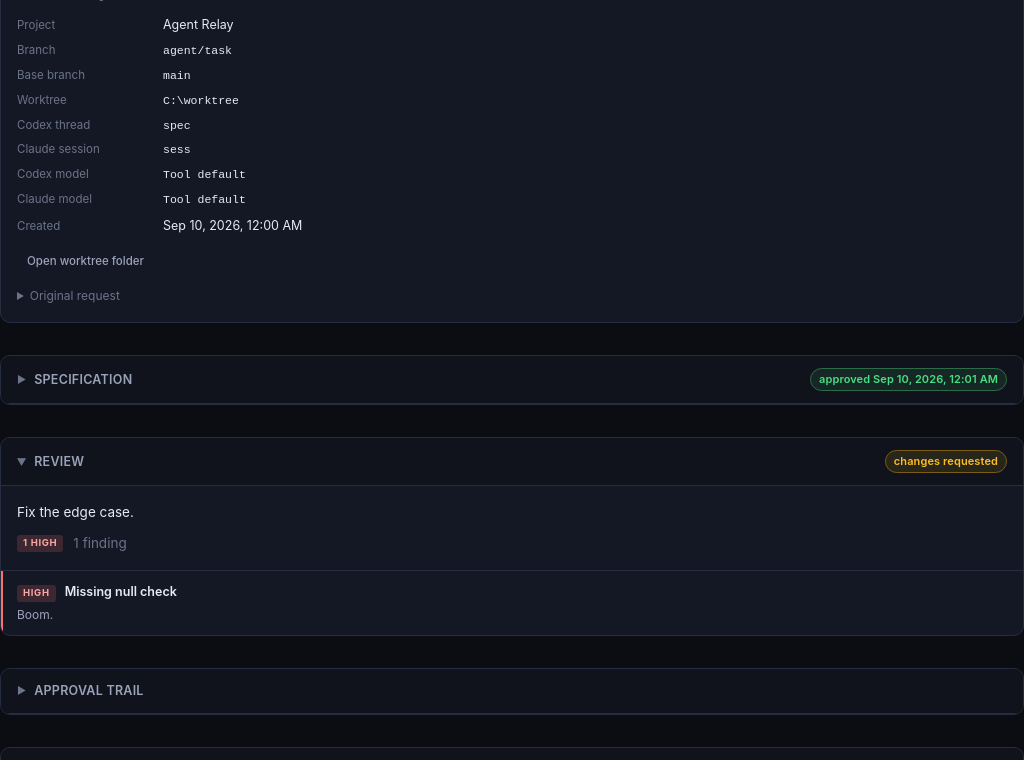
Test: Run screen — context sections are collapsible and live in the sidebar › gives Task/Specification/Review/Approval trail/Changes each a disclosure control with a stage-appropriate default
(page scrolled)
Expected: the text "Ship the null check" is not shown
Click the button "▶ Specification" at (75,380), box [17,370,132,389]
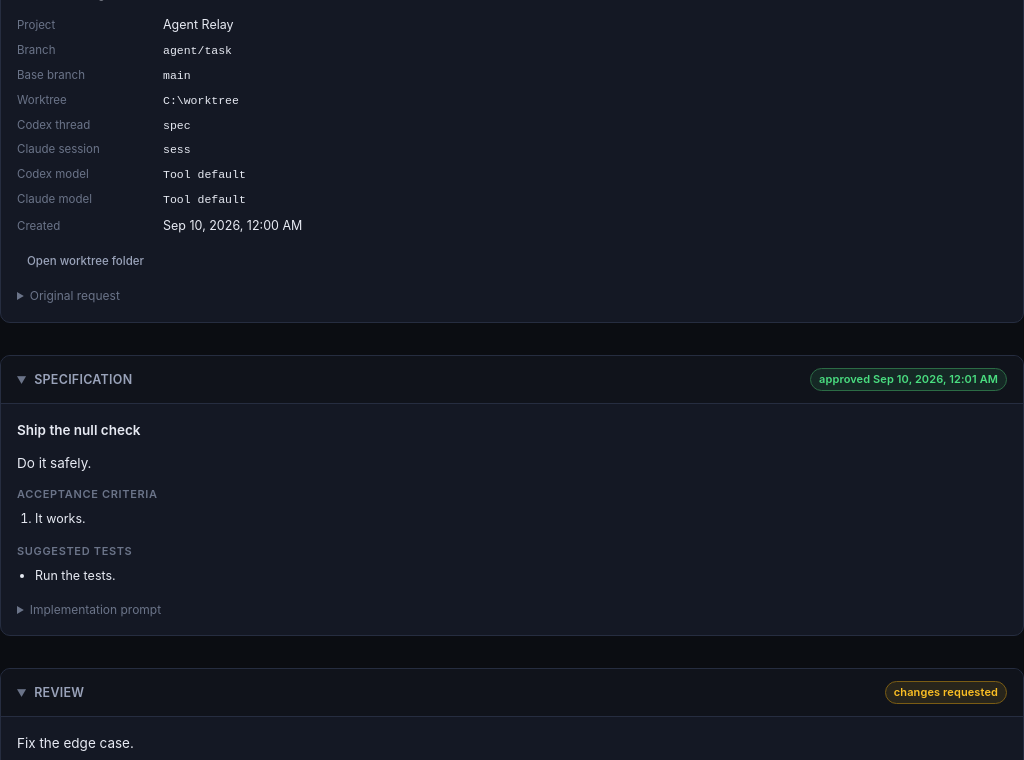
Result: the button "▶ Specification" is expanded at [17,370,132,389]
Result: the text "Ship the null check" is shown at [17,422,140,438]
